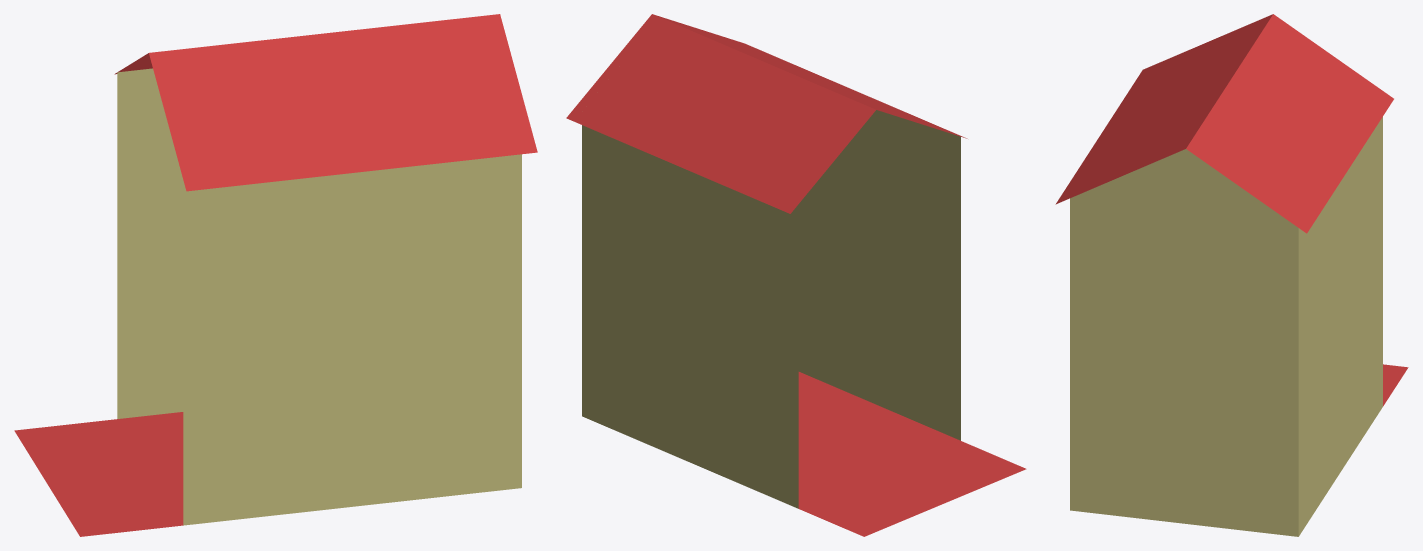
3 views of the same model, side by side, from view 1: azimuth 30°, elevation 25°; view 2: azimuth 150°, elevation 25°; view 3: azimuth 270°, elevation 25° (orthographic). The views are drawn at different scales.
Size of the model in its own units: 10.14 by 7.49 by 8.89.
